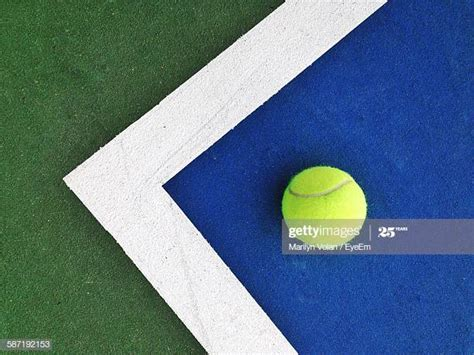tennis_ball: (281, 166, 367, 248)
